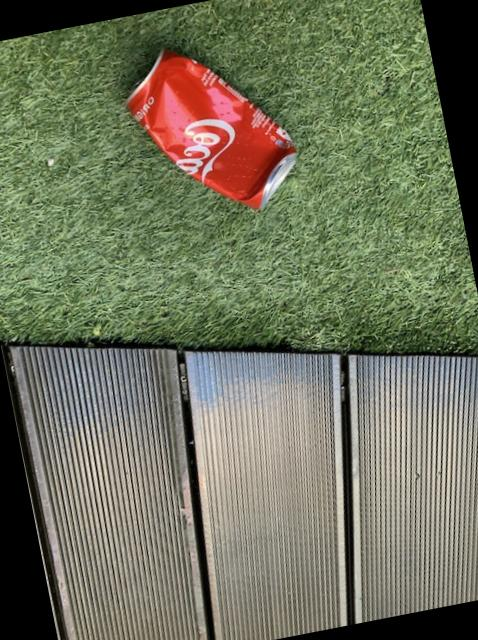metal: (0, 344, 478, 640), (127, 48, 297, 207)
